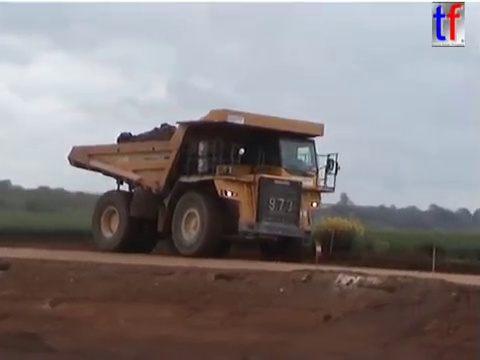truck: (66, 107, 343, 260)
